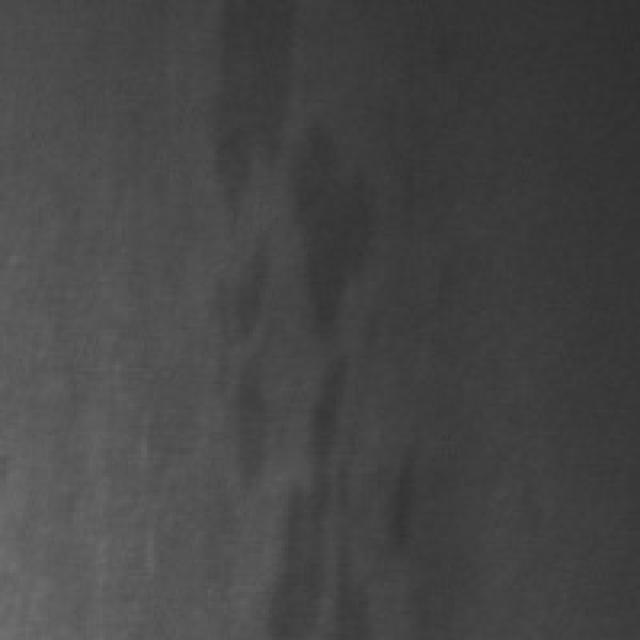inclusion: (266, 115, 378, 634), (189, 0, 294, 506)
